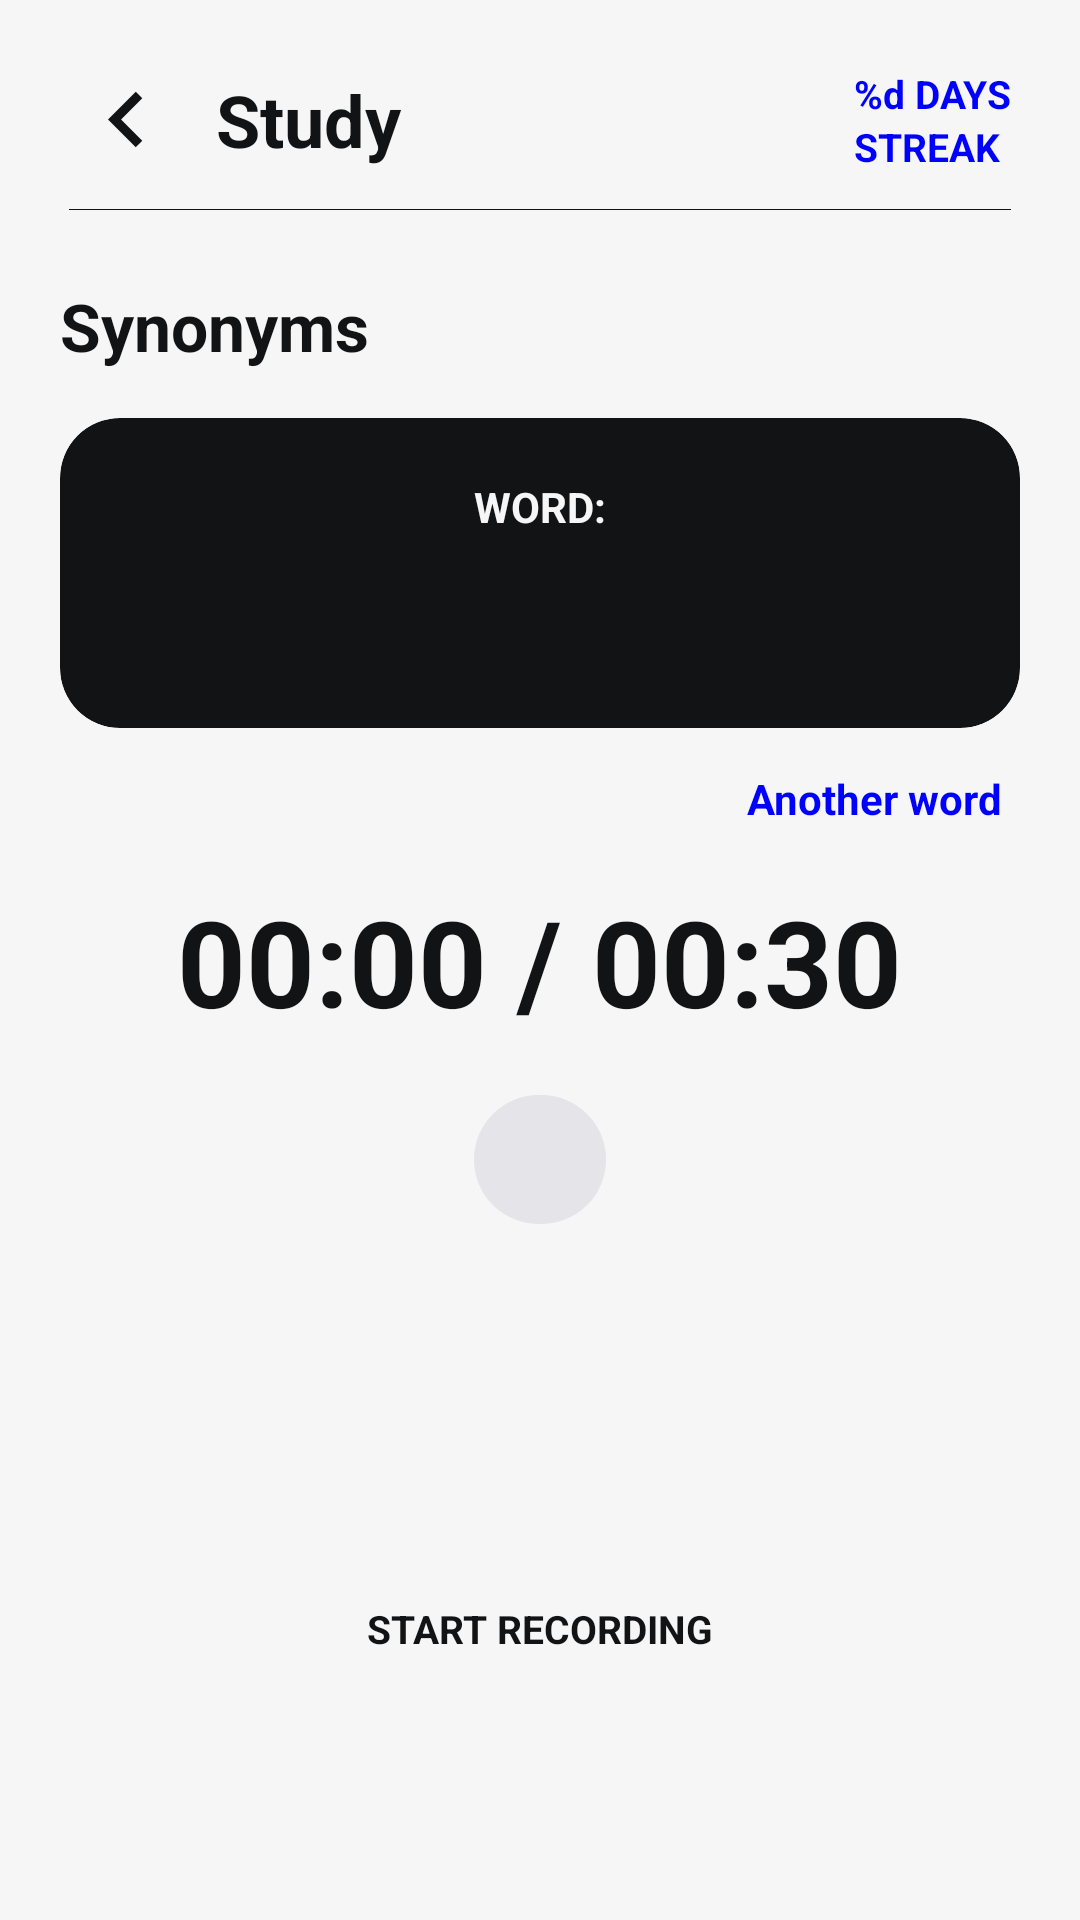

Named icons in this screenshot (1080 × 1920) and their bounding boxes, [x1, y1, x2, y2]:
arrow left: [108, 92, 142, 147]
